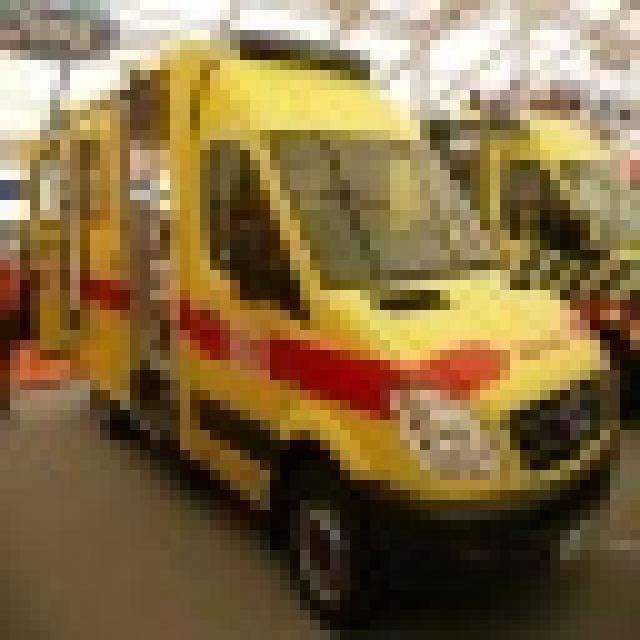Ambulance: (10, 10, 620, 620)
